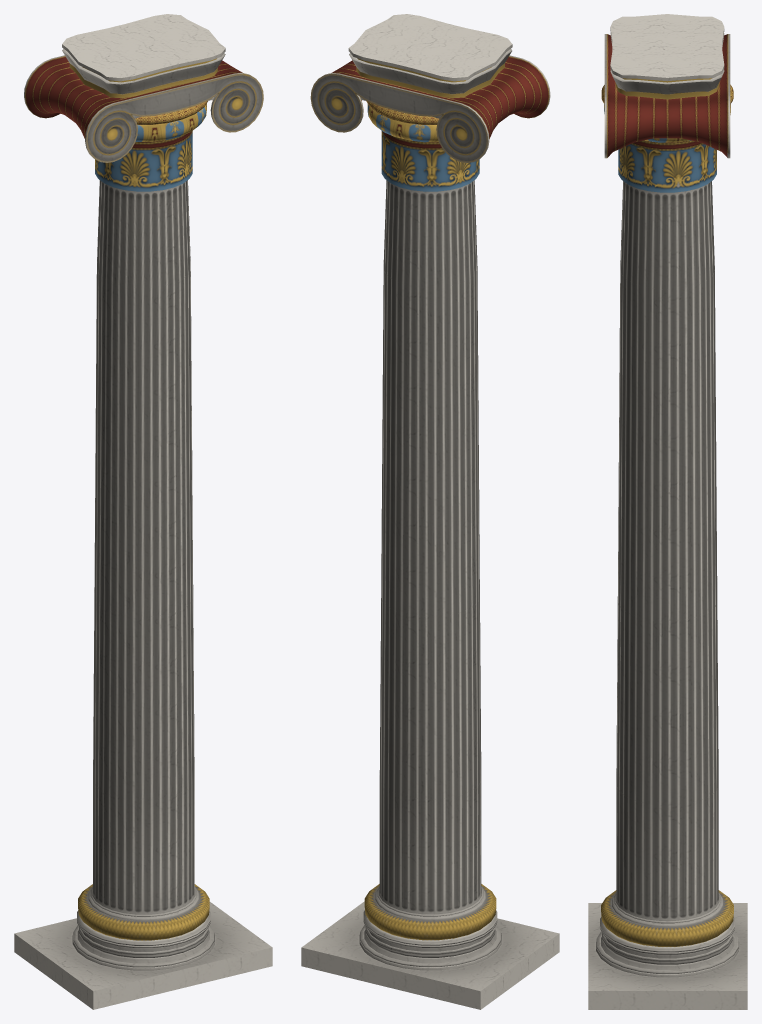
Rendered from ionic_column.glb.
3 views of the same model, side by side, from view 1: azimuth 30°, elevation 25°; view 2: azimuth 150°, elevation 25°; view 3: azimuth 270°, elevation 25° (orthographic).
Parts seen in each view (by area): view 1: Object_2; view 2: Object_2; view 3: Object_2.
Part boxes in pixels (bbox=[...]): Object_2: bbox=[14, 14, 272, 1009]; Object_2: bbox=[301, 14, 559, 1009]; Object_2: bbox=[588, 14, 747, 1009].
Bounding box in the file's own units: 4.01 × 19.52 × 3.06.
1 material, 1 textured.
